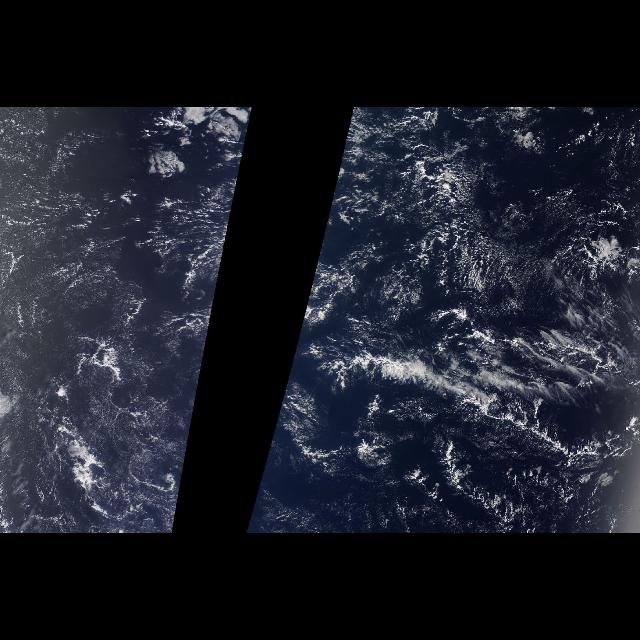Fish: (258, 322, 638, 518)
Gravel: (401, 152, 504, 354)
Sugar: (2, 110, 216, 530), (423, 148, 629, 322)
